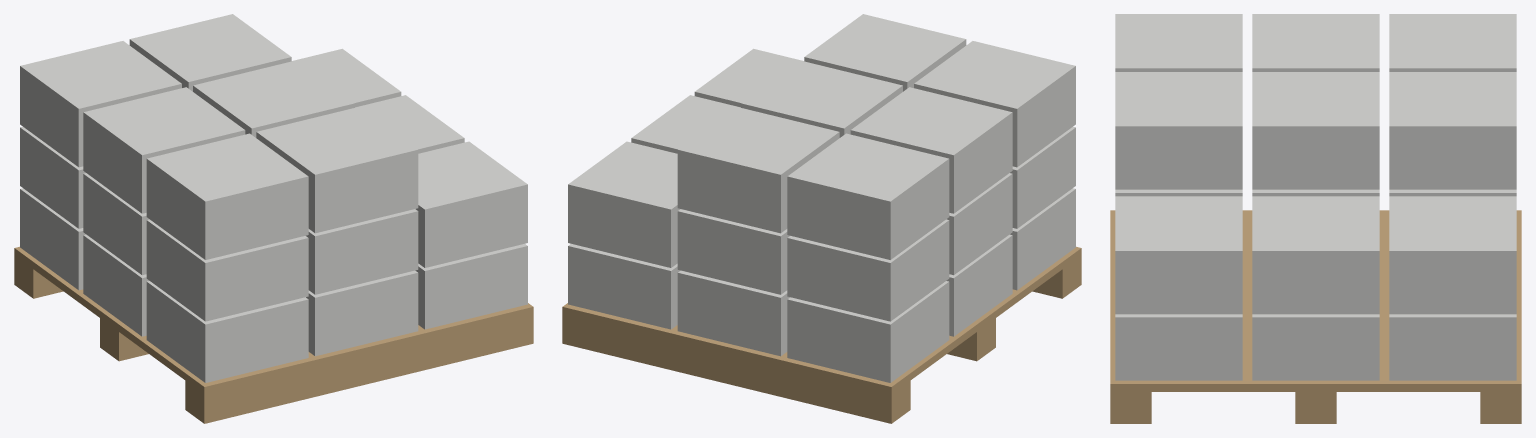
Rendered from pallet_mp_24.glb.
3 renders of one model, left to right at view 1: azimuth 30°, elevation 25°; view 2: azimuth 150°, elevation 25°; view 3: azimuth 270°, elevation 25°, orthographic. The views are drawn at different scales.
Visible parts, largest first — view 1: PalletMP; view 2: PalletMP; view 3: PalletMP.
Boxes of the visible parts, <box> form: PalletMP: <box>14,14,533,423</box>; PalletMP: <box>562,14,1081,423</box>; PalletMP: <box>1110,14,1521,423</box>.
Size of the model in its own units: 1 by 0.6386 by 1.
